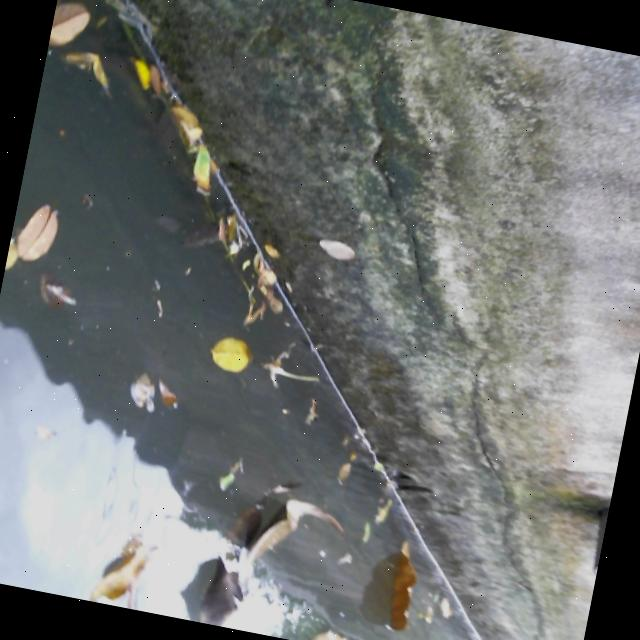Big-leaf: (167, 468, 353, 640), (77, 523, 181, 616), (376, 527, 439, 637), (303, 620, 379, 640)
Small-leaf: (19, 190, 76, 264), (197, 325, 265, 386), (167, 135, 224, 200), (59, 47, 126, 100), (111, 357, 165, 419), (160, 96, 211, 146), (421, 575, 471, 623), (1, 232, 39, 287), (49, 0, 92, 45), (126, 56, 172, 96), (246, 250, 289, 291), (149, 370, 190, 409), (332, 454, 362, 488)
